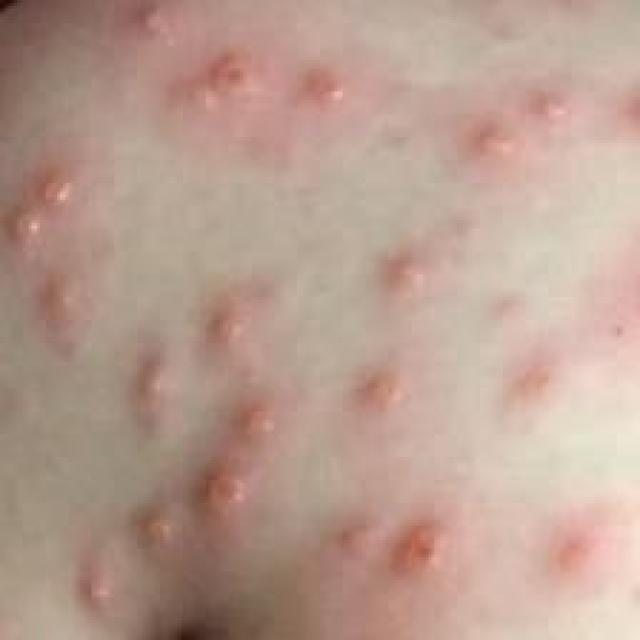others: (0, 12, 627, 627)
